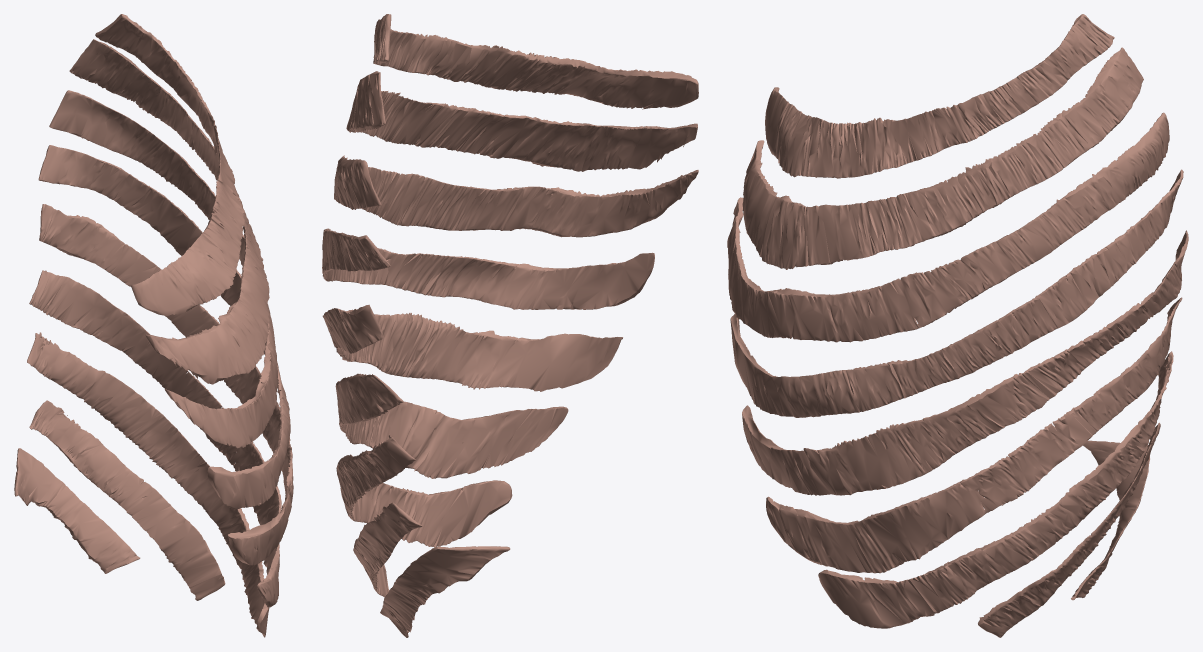
Rendered from thorax-19.glb.
3 views of the same model, side by side, from view 1: azimuth 30°, elevation 25°; view 2: azimuth 150°, elevation 25°; view 3: azimuth 270°, elevation 25° (orthographic). The views are drawn at different scales.
Parts seen in each view (by area): view 1: FJ1455M; view 2: FJ1455M; view 3: FJ1455M.
Boxes of the visible parts, x1,y1,x2,y2 form: FJ1455M: (14,14,293,637); FJ1455M: (322,14,698,637); FJ1455M: (727,14,1188,637).
Size of the model in its own units: 0.1167 by 0.2956 by 0.2047.
